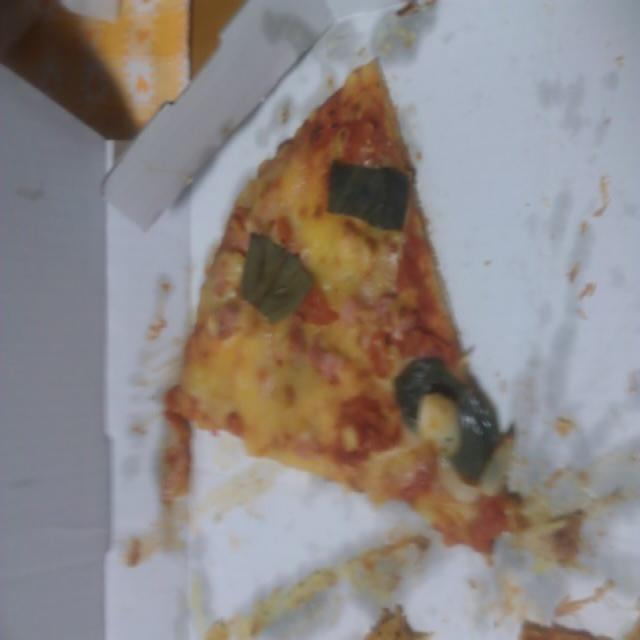Pizza: (179, 64, 511, 522)
